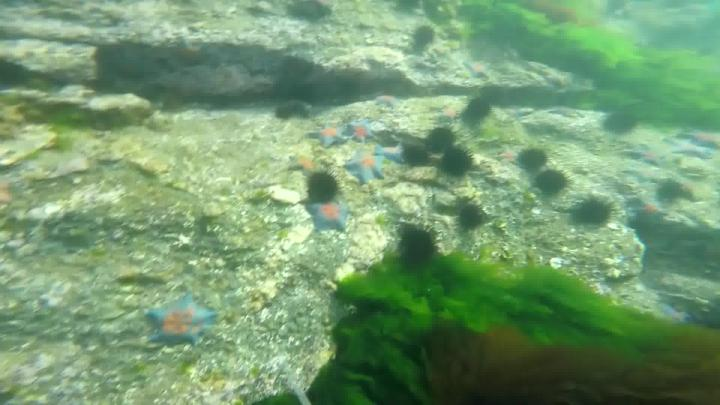echinus: (398, 224, 437, 268), (303, 172, 341, 204), (440, 147, 475, 176), (577, 196, 614, 223), (427, 123, 460, 153), (537, 166, 572, 193), (605, 112, 636, 135), (459, 204, 485, 230), (403, 143, 430, 167), (520, 146, 548, 169), (467, 98, 492, 119), (638, 186, 663, 201)
starfish: (149, 291, 214, 352), (307, 199, 351, 230), (636, 195, 669, 232), (350, 154, 389, 182), (311, 120, 348, 146), (673, 133, 710, 158), (663, 304, 691, 332), (345, 119, 374, 143), (639, 140, 667, 163), (290, 154, 320, 175), (374, 144, 407, 160), (551, 105, 581, 119), (377, 94, 403, 107)
